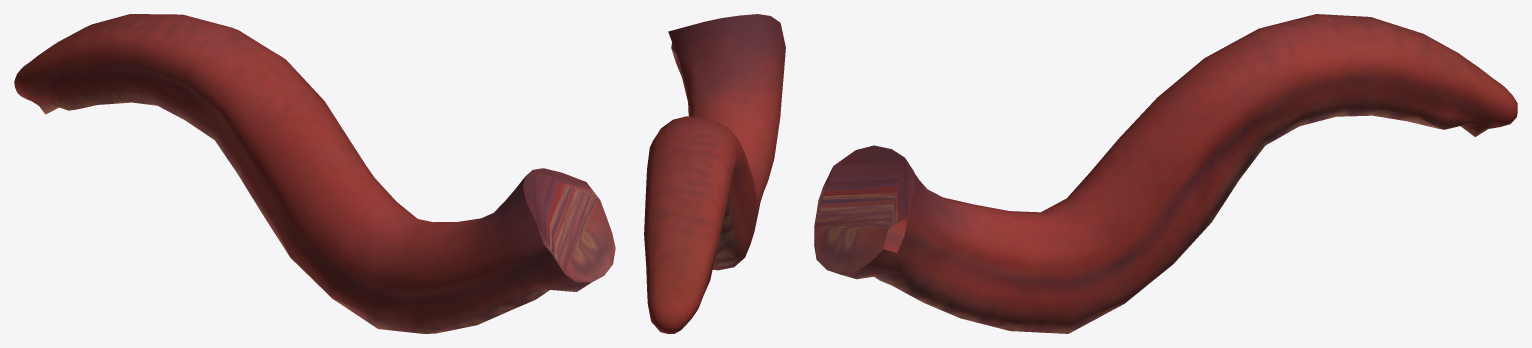
The model's file is tentaculo4.obj.
The picture shows the model from 3 angles, left to right: view 1: azimuth 30°, elevation 25°; view 2: azimuth 150°, elevation 25°; view 3: azimuth 270°, elevation 25°; orthographic projection. The views are drawn at different scales.
Parts seen in each view (by area): view 1: tentacle4; view 2: tentacle4; view 3: tentacle4.
Boxes of the visible parts, box(x1,y1,x2,y2) form: tentacle4: box(14, 14, 615, 333); tentacle4: box(644, 14, 785, 333); tentacle4: box(814, 14, 1517, 333).
Size of the model in its own units: 236 by 172 by 436.
Materials: 2 (2 with a texture image).
